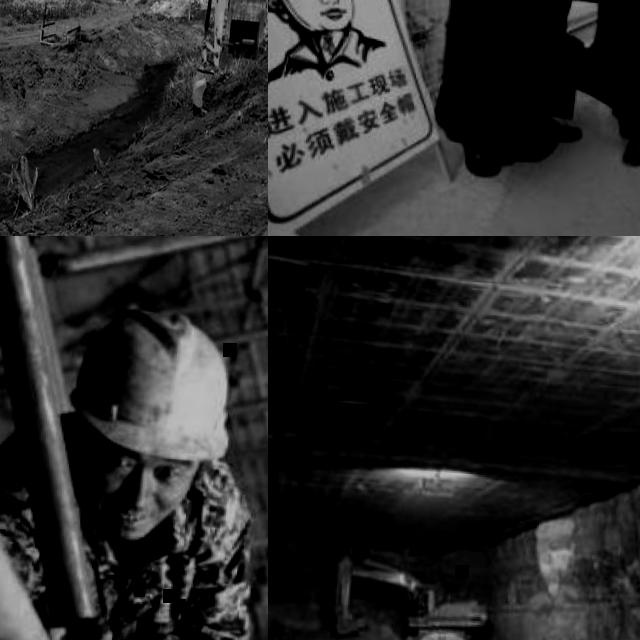Hardhat: (64, 302, 240, 463)
NO-Mask: (76, 467, 188, 543)
NO-Safety Vest: (5, 450, 225, 640), (445, 0, 554, 75), (583, 0, 640, 39)
Person: (0, 284, 268, 640), (430, 0, 581, 180), (519, 0, 640, 165)
machinery: (329, 549, 494, 640)
